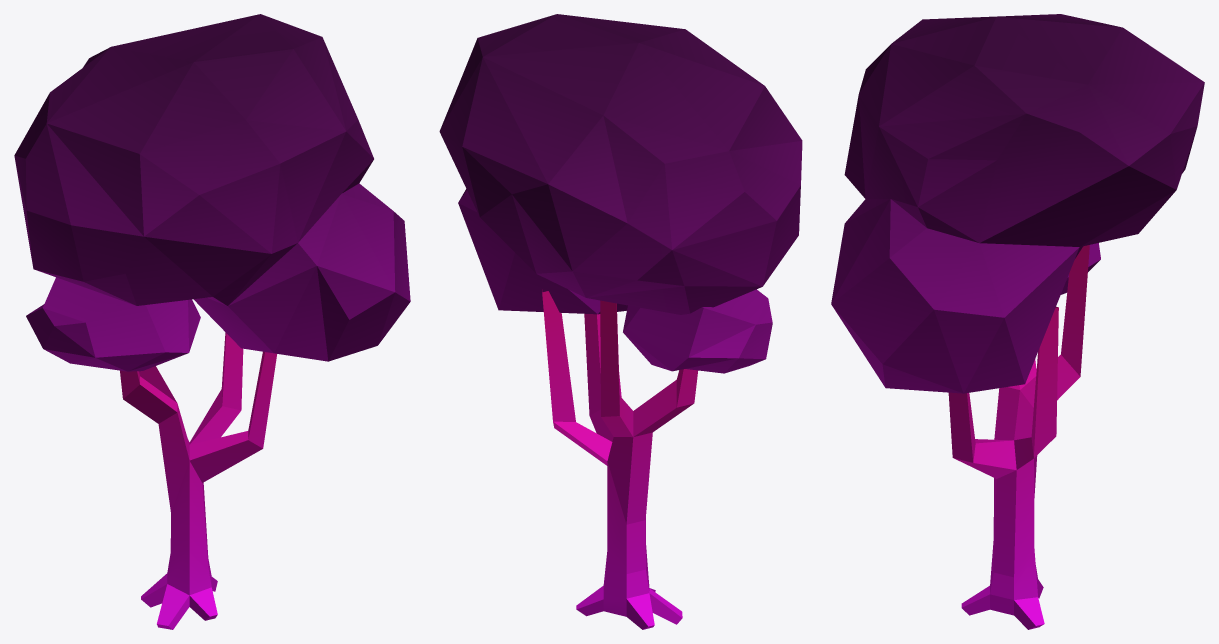
The model's file is SM_Env_Tree_Pear_01.fbx.
3 renders of one model, left to right at view 1: azimuth 30°, elevation 25°; view 2: azimuth 150°, elevation 25°; view 3: azimuth 270°, elevation 25°, orthographic. The views are drawn at different scales.
Visible parts, largest first — view 1: SM_Env_Tree_Pear_01; view 2: SM_Env_Tree_Pear_01; view 3: SM_Env_Tree_Pear_01.
Part boxes in pixels (box(x1,y1,x2,y2)): SM_Env_Tree_Pear_01: box(14, 14, 410, 629); SM_Env_Tree_Pear_01: box(439, 14, 802, 629); SM_Env_Tree_Pear_01: box(831, 14, 1204, 629).
Size of the model in its own units: 239 by 382 by 215.
